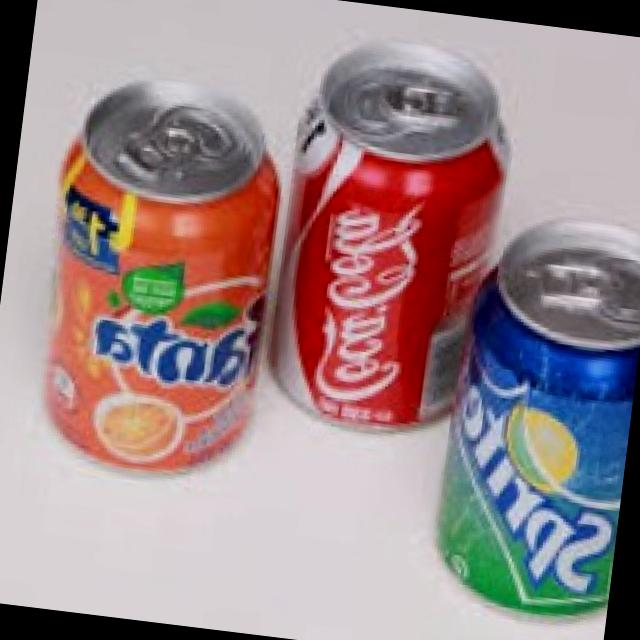kim_loai: (40, 78, 280, 476), (270, 39, 508, 433), (435, 214, 640, 623)
